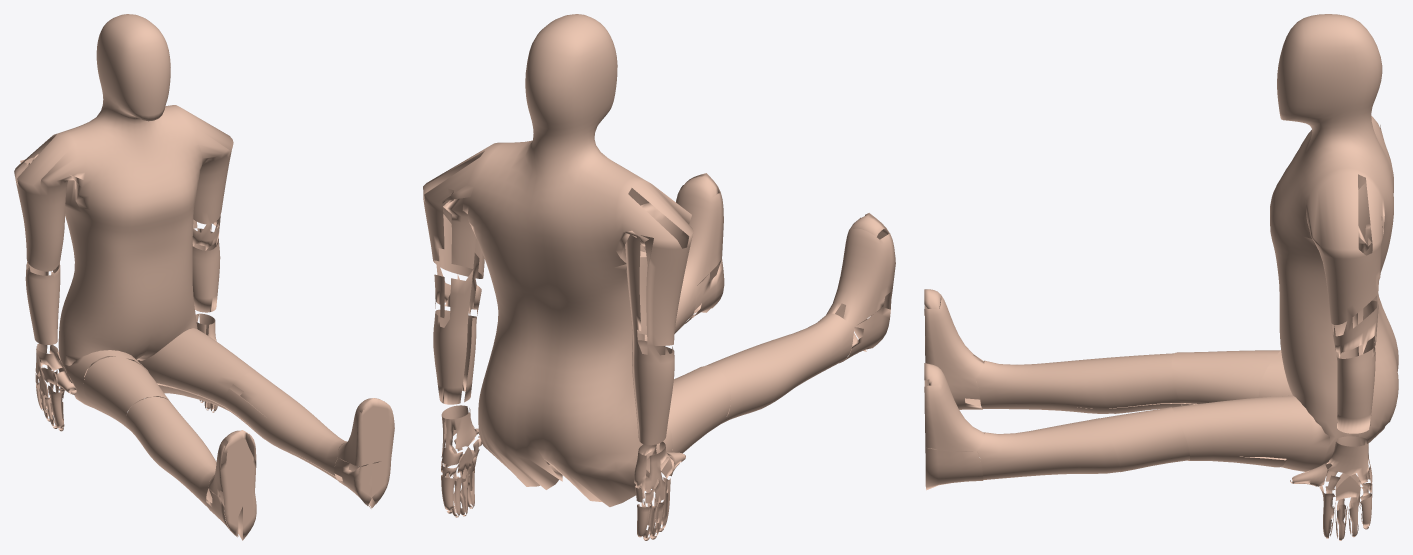
The model's file is sitting corpse.glb.
3 views of the same model, side by side, from view 1: azimuth 30°, elevation 25°; view 2: azimuth 150°, elevation 25°; view 3: azimuth 270°, elevation 25° (orthographic). The views are drawn at different scales.
Visible parts, largest first — view 1: Object_255; view 2: Object_255; view 3: Object_255.
Boxes of the visible parts, <box> form: Object_255: <box>14,14,394,540</box>; Object_255: <box>423,14,895,540</box>; Object_255: <box>924,14,1398,540</box>.
Bounding box in the file's own units: 0.6235 × 1.17 × 1.05.
